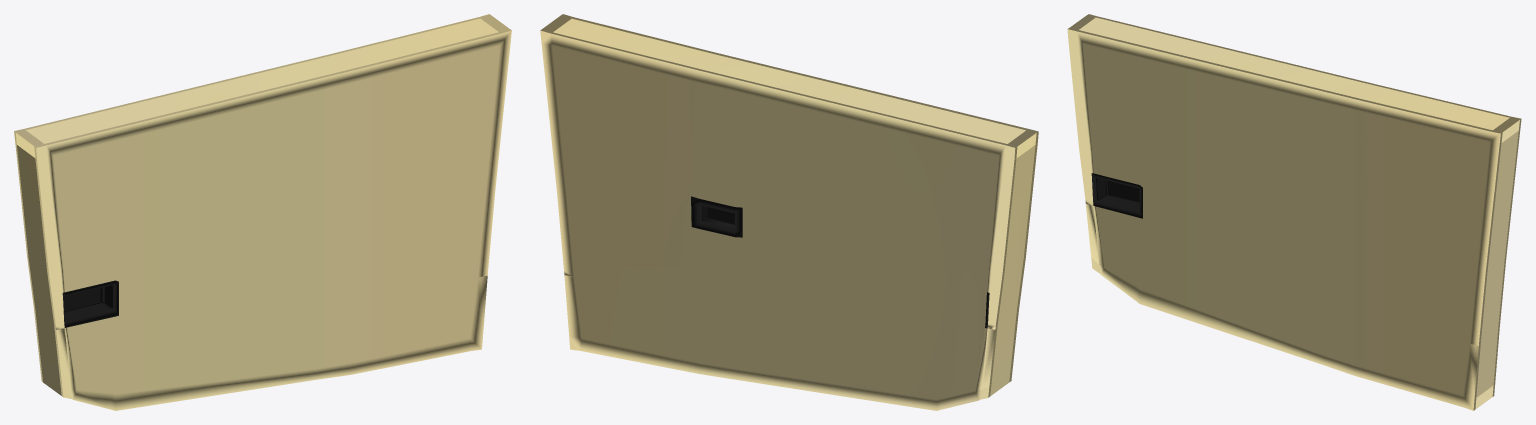
File: PortaDireitaCarro.fbx
The picture shows the model from 3 angles, left to right: view 1: azimuth 30°, elevation 25°; view 2: azimuth 150°, elevation 25°; view 3: azimuth 330°, elevation 25°; orthographic projection. The views are drawn at different scales.
Parts seen in each view (by area): view 1: PortaDireitaCarro; view 2: PortaDireitaCarro; view 3: PortaDireitaCarro.
Boxes of the visible parts, bbox=[...] form: PortaDireitaCarro: bbox=[14, 14, 511, 410]; PortaDireitaCarro: bbox=[540, 14, 1038, 410]; PortaDireitaCarro: bbox=[1067, 14, 1521, 410].
Bounding box in the file's own units: 60.2 × 37.68 × 5.
